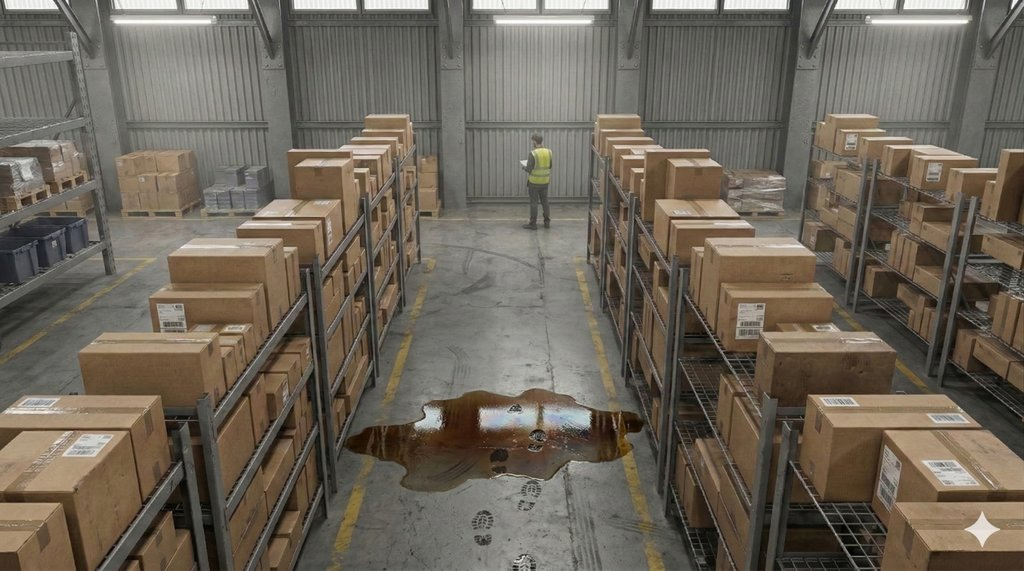empty_shelf: (2, 17, 97, 139)
person: (517, 96, 573, 228)
safety_vest: (528, 142, 560, 192)
spill: (337, 388, 652, 510)
